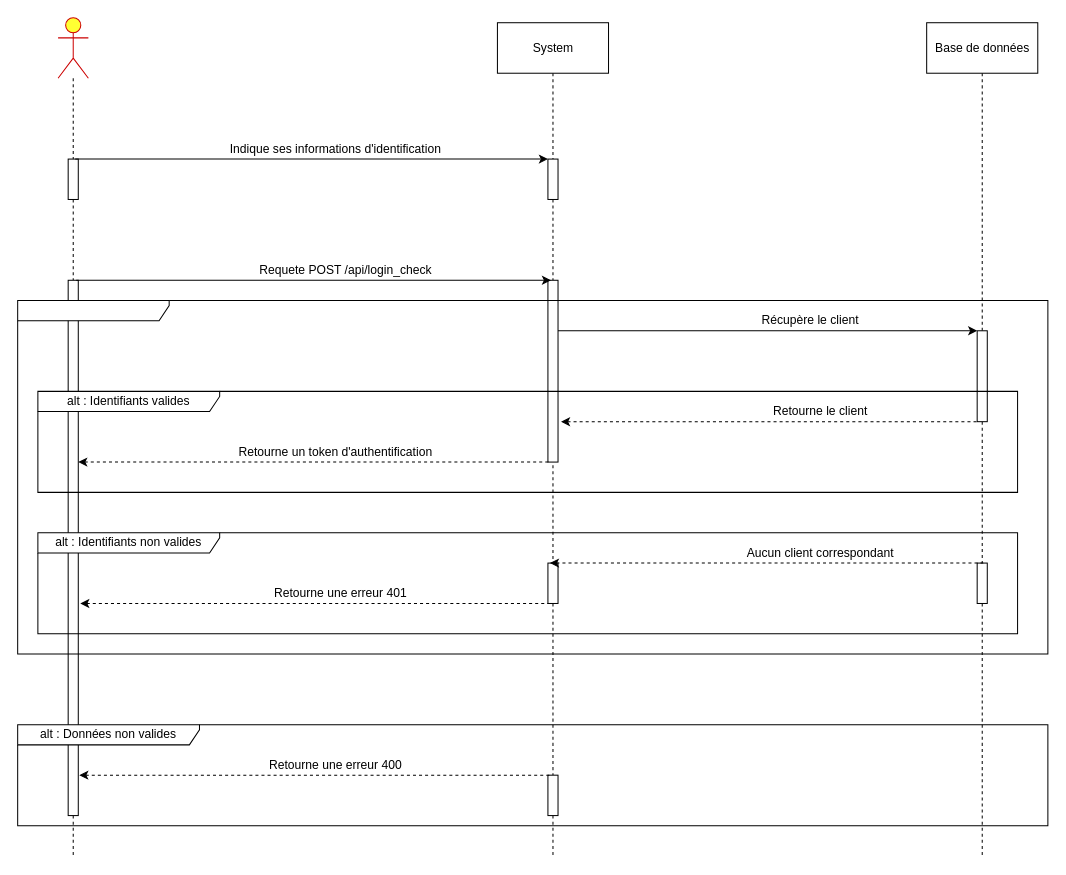
This 1066x875 diagram has some shape labels left out. Here are the shapes that lost their labels. From the top down, the centre of each, then its label:
At [72,47]: "Client".
At [532,476]: "alt : Données valides".
